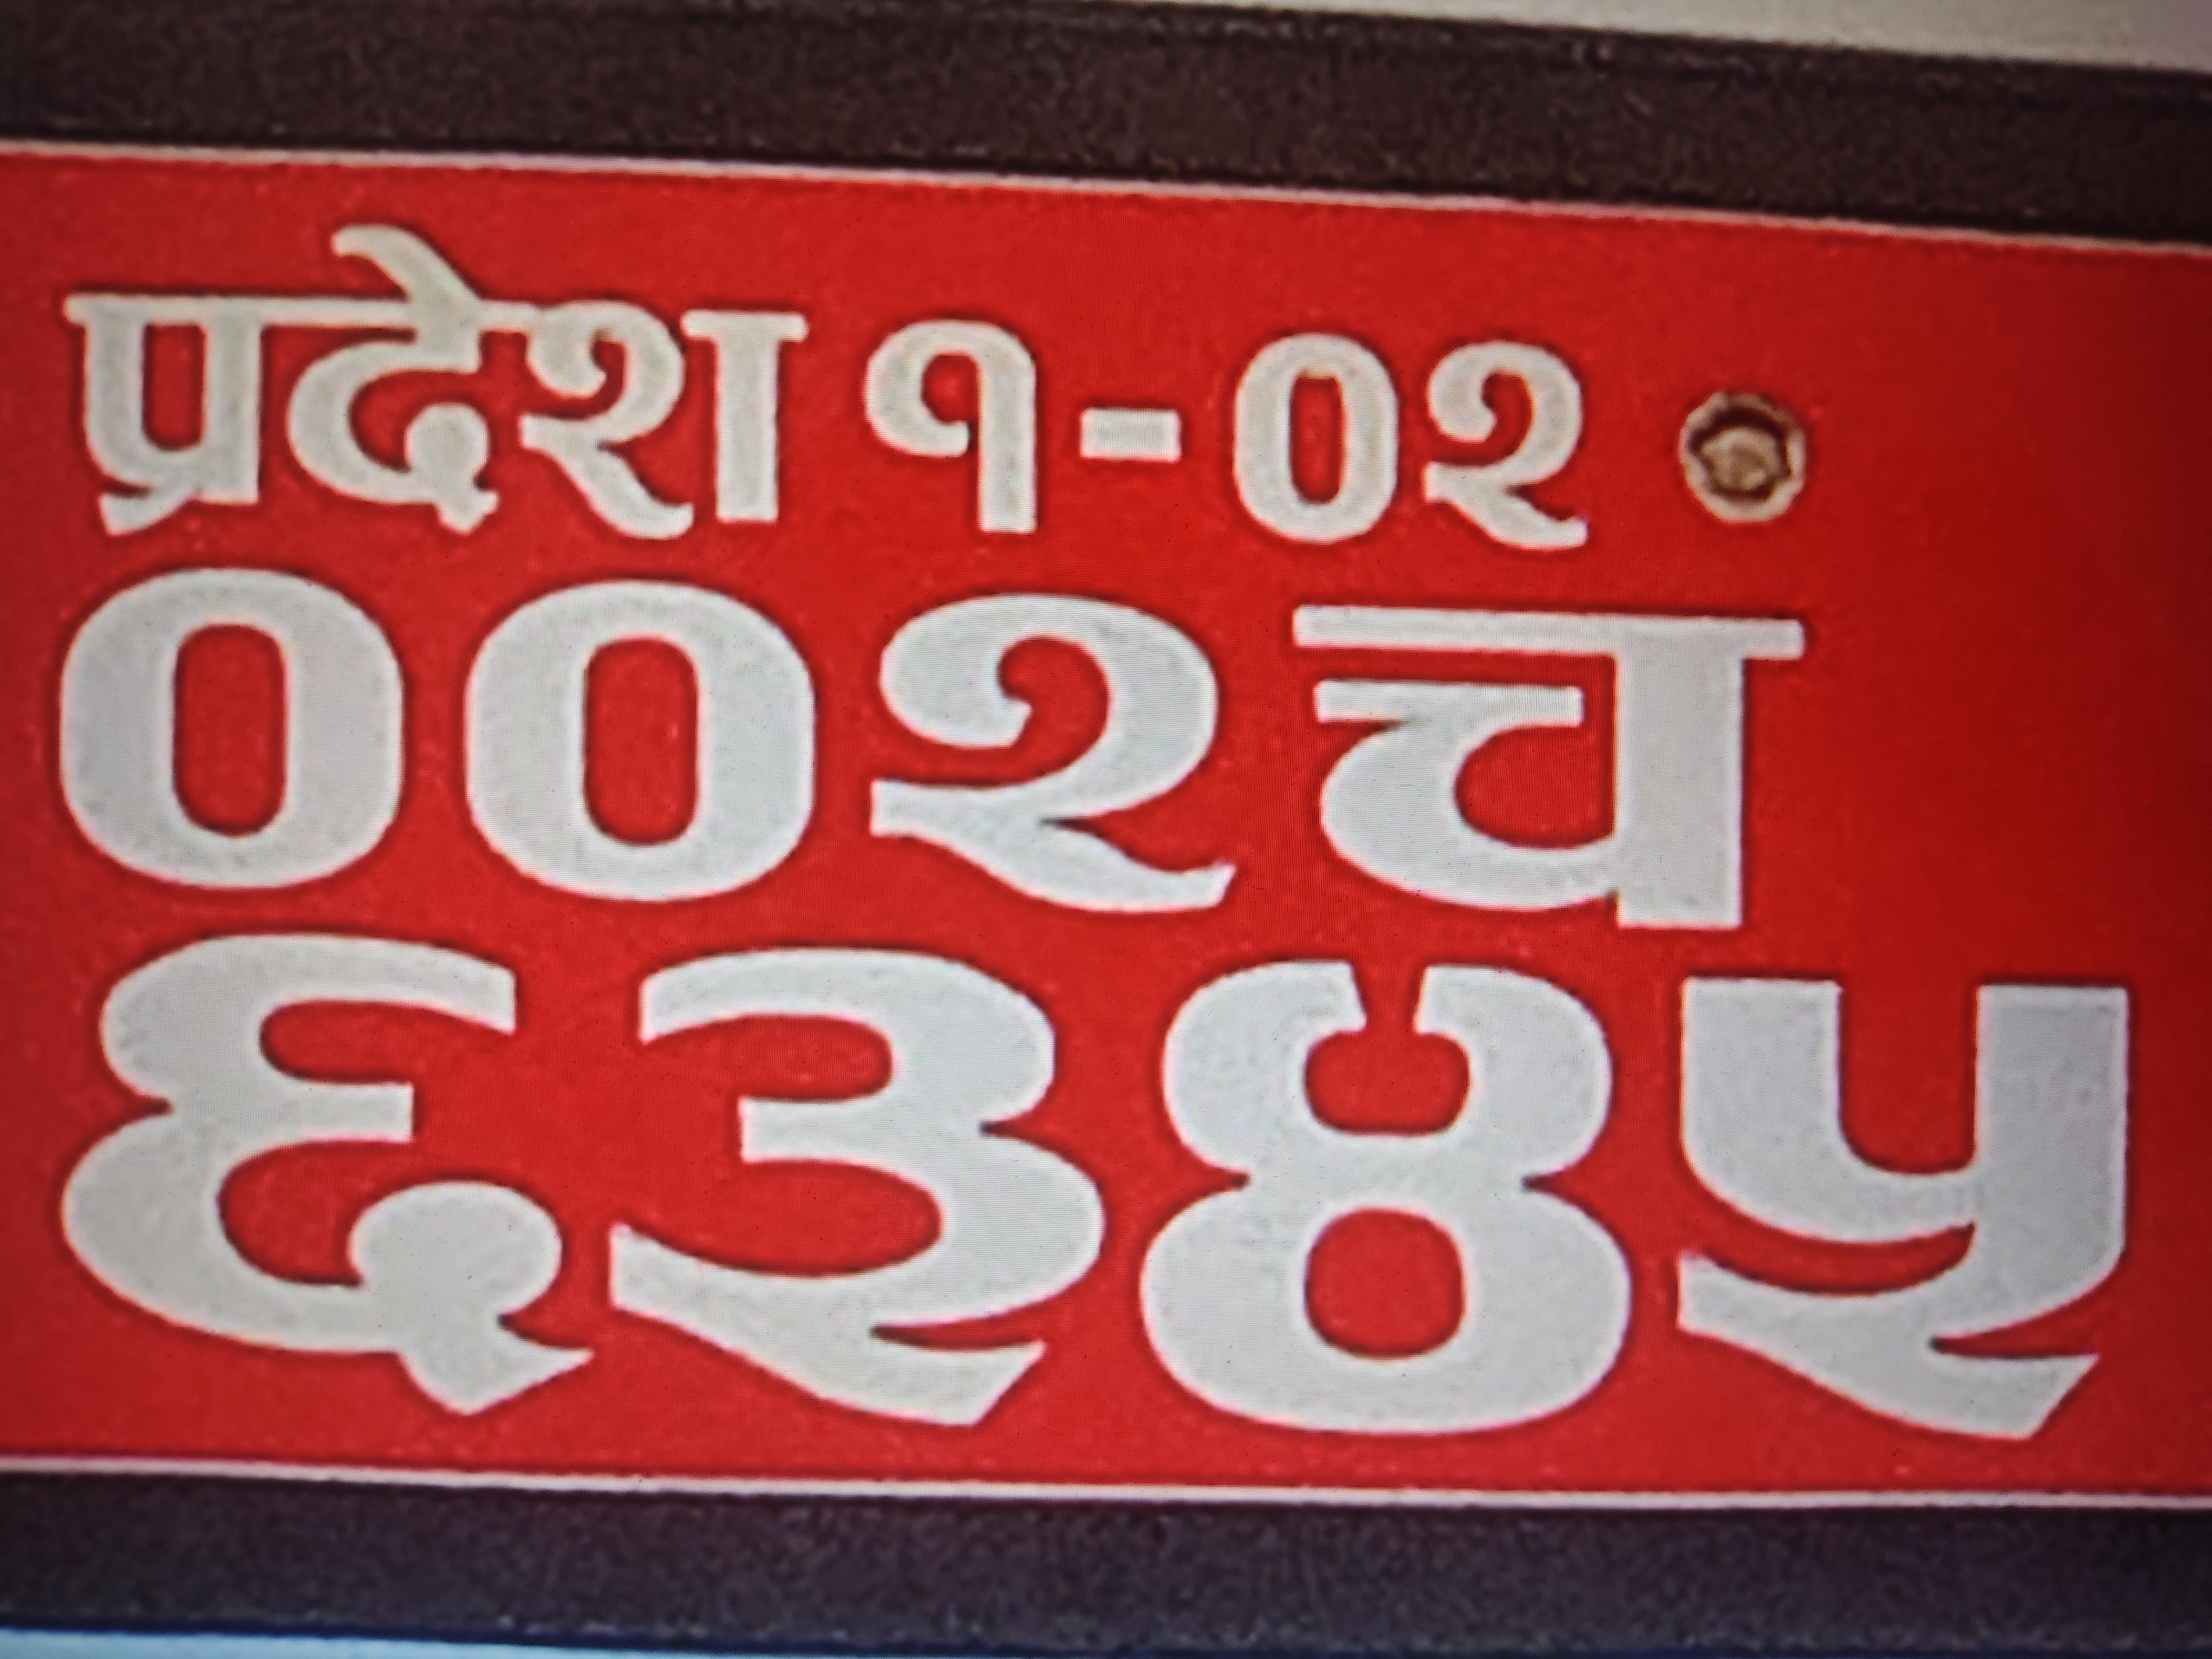0: (20, 540, 429, 916), (454, 554, 839, 917), (1214, 310, 1412, 558)
1: (838, 274, 1058, 568)
2: (852, 570, 1255, 930), (1419, 316, 1631, 572)
3: (617, 930, 1114, 1463)
4: (1131, 930, 1665, 1473)
5: (1671, 957, 2172, 1457)
6: (23, 927, 591, 1430)
cha: (1272, 548, 1863, 940)
pradesh: (34, 194, 823, 558)
